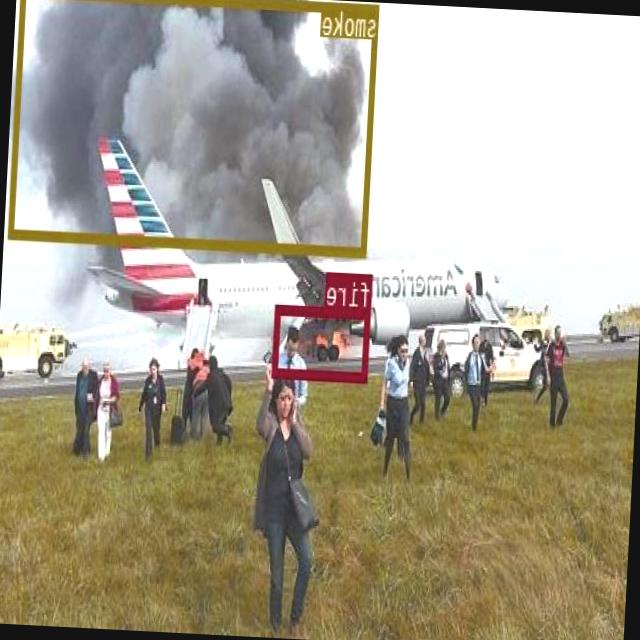fire: (274, 303, 372, 380)
smoke: (10, 0, 381, 254)
